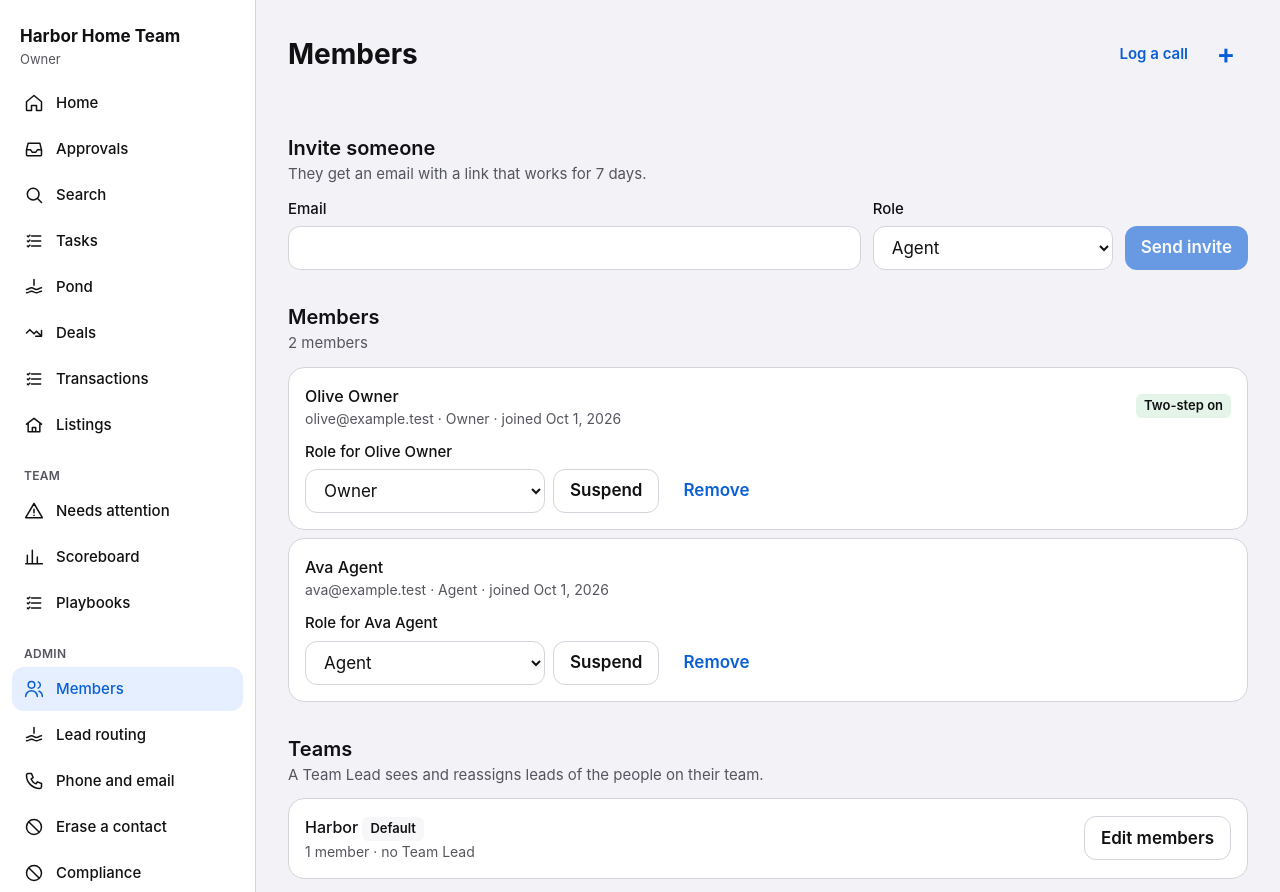
it: Members › an invite that needs the password again asks for it once, then sends the same invite
In the field labelled "Email": (574, 248) [288, 226, 861, 270], type "new@example.test"
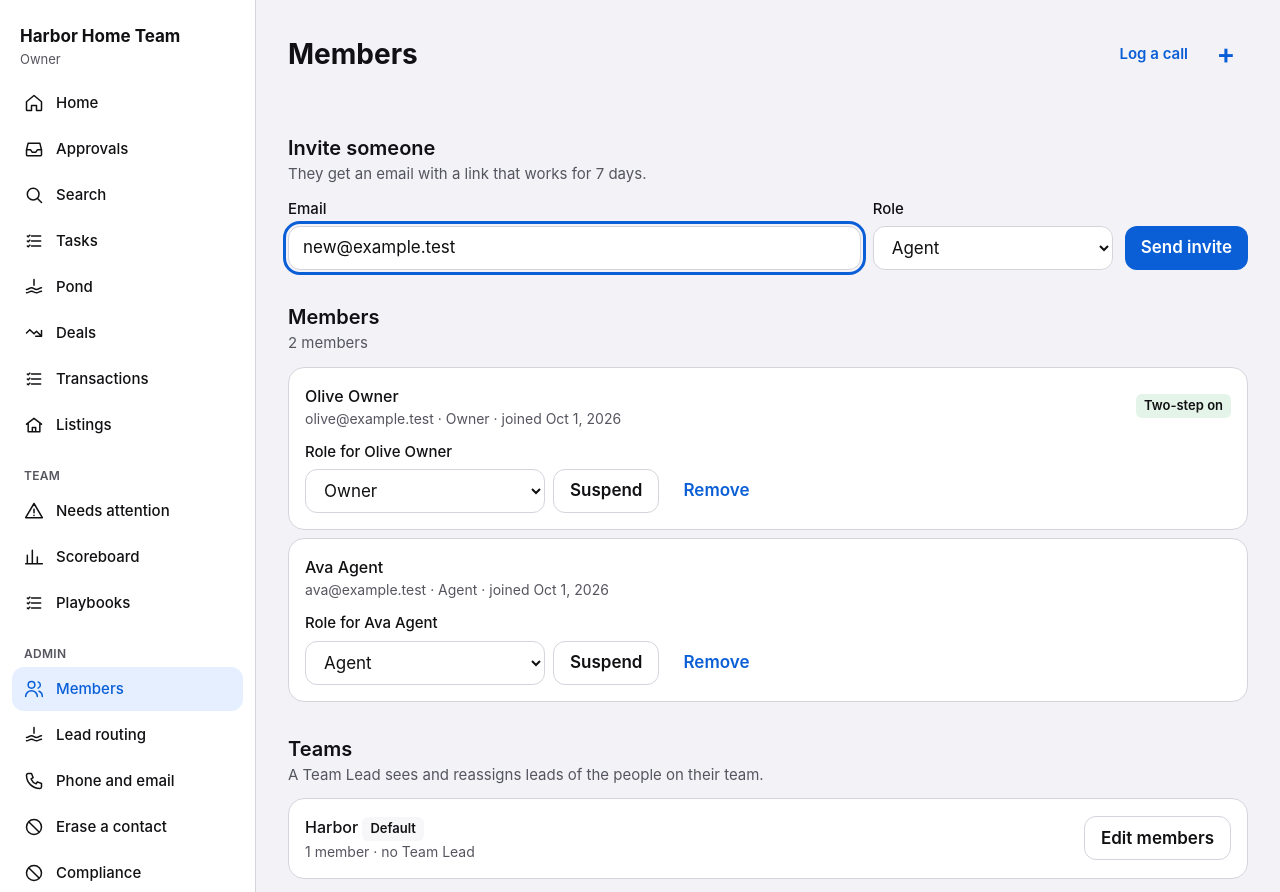
Click the button "Send invite": (1186, 248) [1125, 226, 1248, 270]
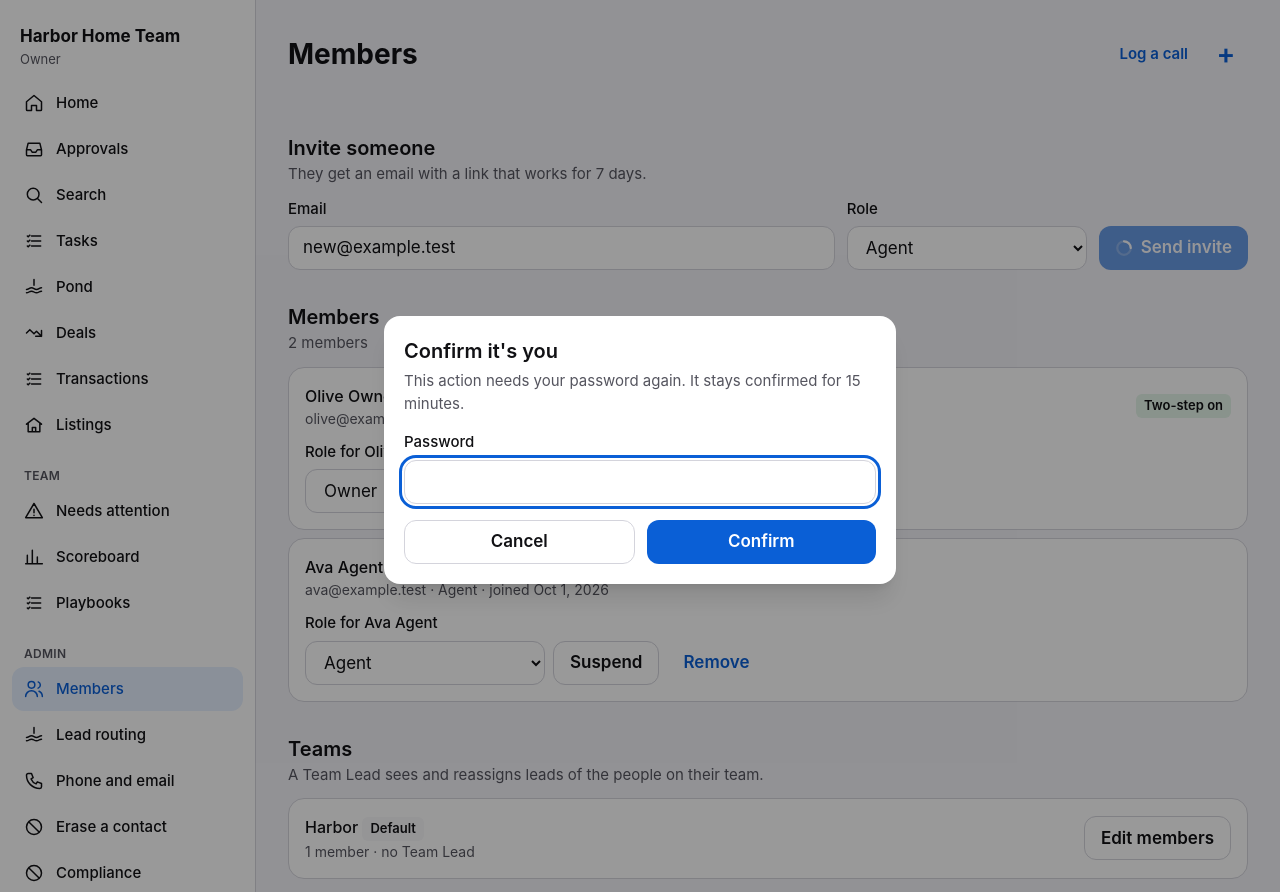
In the password field labelled "Password": (640, 482) [404, 460, 876, 504], type "correct horse"
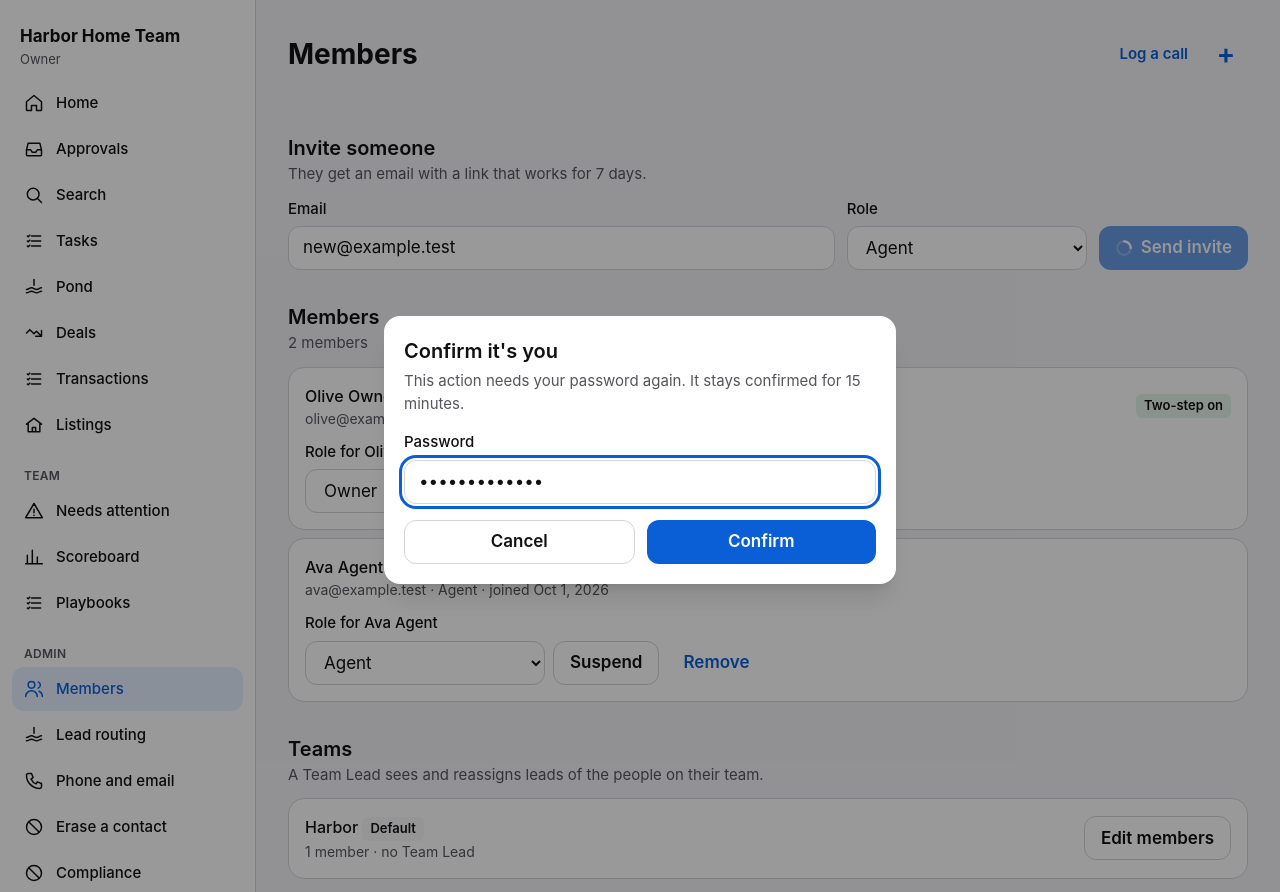
Click the button "Confirm": (761, 542) [646, 520, 876, 564]
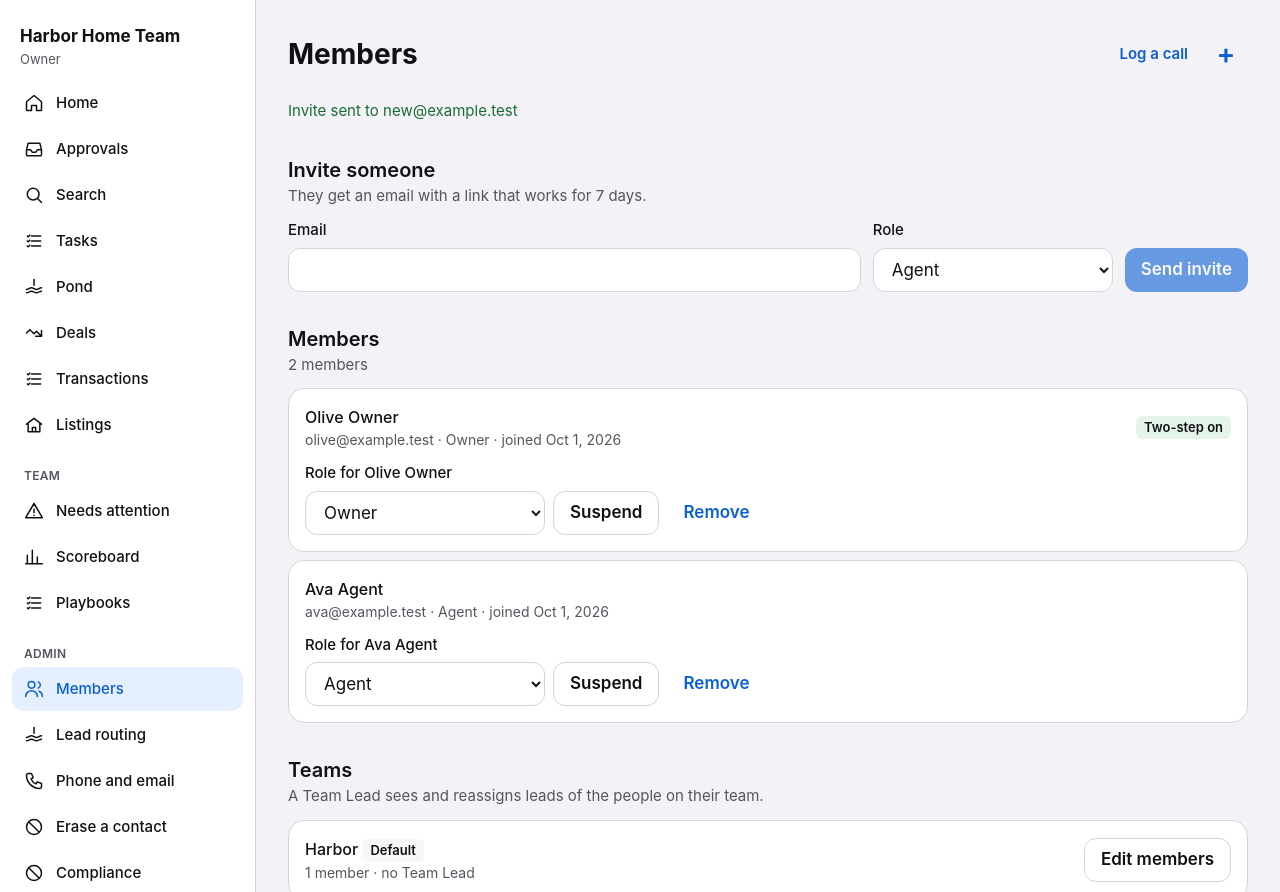
expect the text "Invite sent to new@example.test" is shown: met, box [288, 101, 518, 120]
